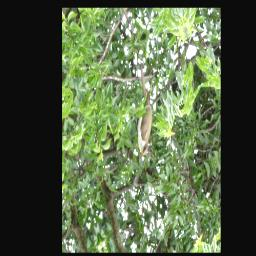Cuckoo: (116, 58, 165, 163)
